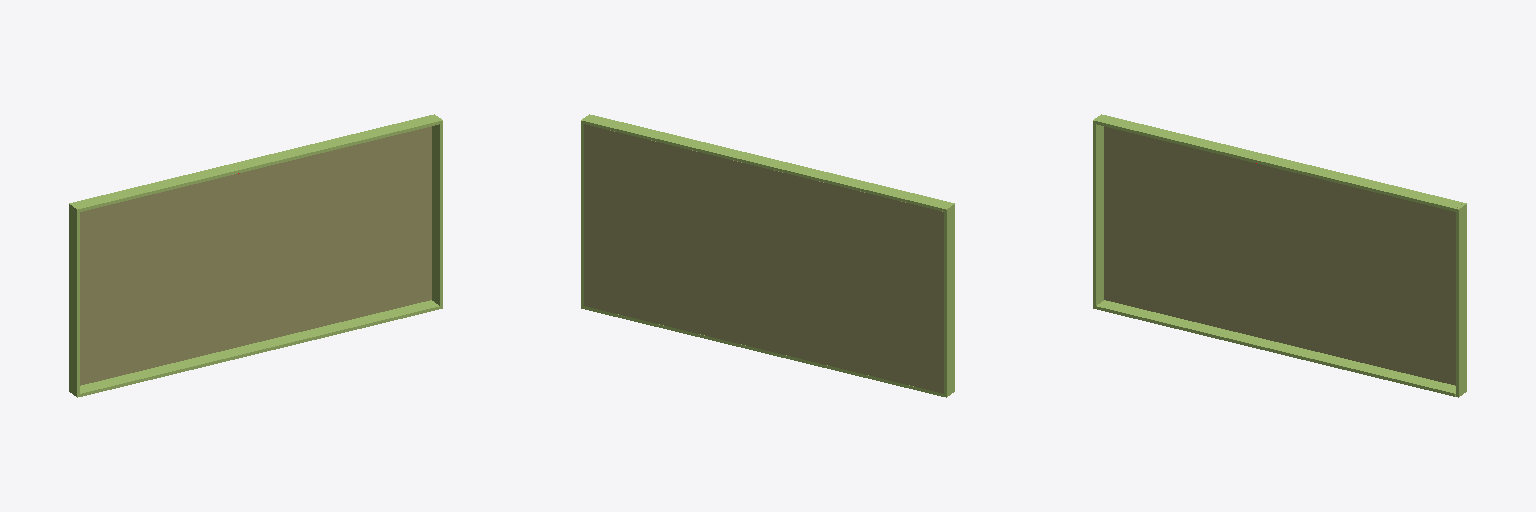
The model's file is field_1.obj.
3 views of the same model, side by side, from view 1: azimuth 30°, elevation 25°; view 2: azimuth 150°, elevation 25°; view 3: azimuth 330°, elevation 25° (orthographic).
Visible parts, largest first — view 1: Floor_Cube.001, Wall_1_Cube.002, Wall2_Cube.003, Wall_3_Cube.004, Wall_4_Cube.005; view 2: Floor_Cube.001, Wall_1_Cube.002, Wall_3_Cube.004, Wall2_Cube.003, Wall_4_Cube.005; view 3: Floor_Cube.001, Wall_1_Cube.002, Wall2_Cube.003, Wall_4_Cube.005, Wall_3_Cube.004.
Part boxes in pixels (x1,y1,x2,y2): Floor_Cube.001: (80,126,431,385); Wall_1_Cube.002: (73,115,439,211); Wall2_Cube.003: (80,300,439,396); Wall_3_Cube.004: (69,203,79,397); Wall_4_Cube.005: (432,114,442,308); Floor_Cube.001: (584,124,943,393); Wall_1_Cube.002: (584,115,950,211); Wall_3_Cube.004: (944,203,954,397); Wall2_Cube.003: (584,306,943,396); Wall_4_Cube.005: (581,114,591,308); Floor_Cube.001: (1104,126,1455,385); Wall_1_Cube.002: (1096,115,1462,211); Wall2_Cube.003: (1096,300,1455,396); Wall_4_Cube.005: (1456,203,1466,397); Wall_3_Cube.004: (1093,114,1103,308).
Bounding box in the file's own units: 141 × 69.17 × 5.66.